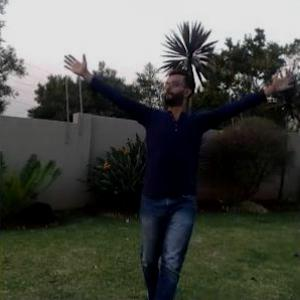takeoff: (66, 52, 299, 284)
